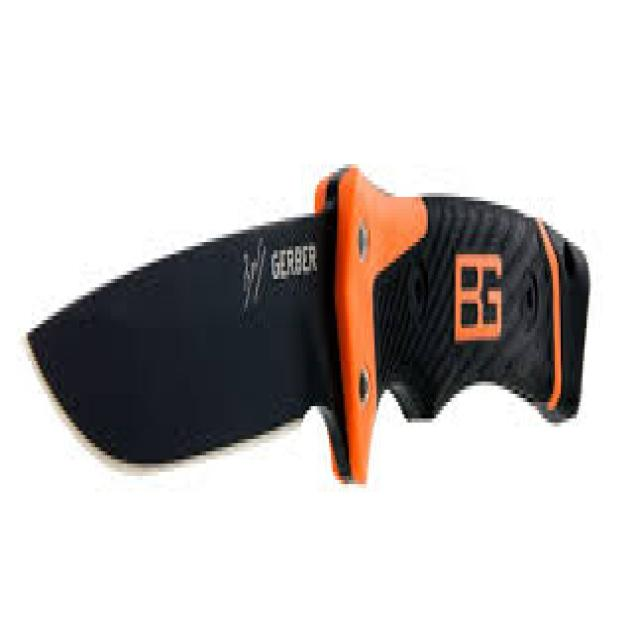knives: (22, 156, 592, 492)
